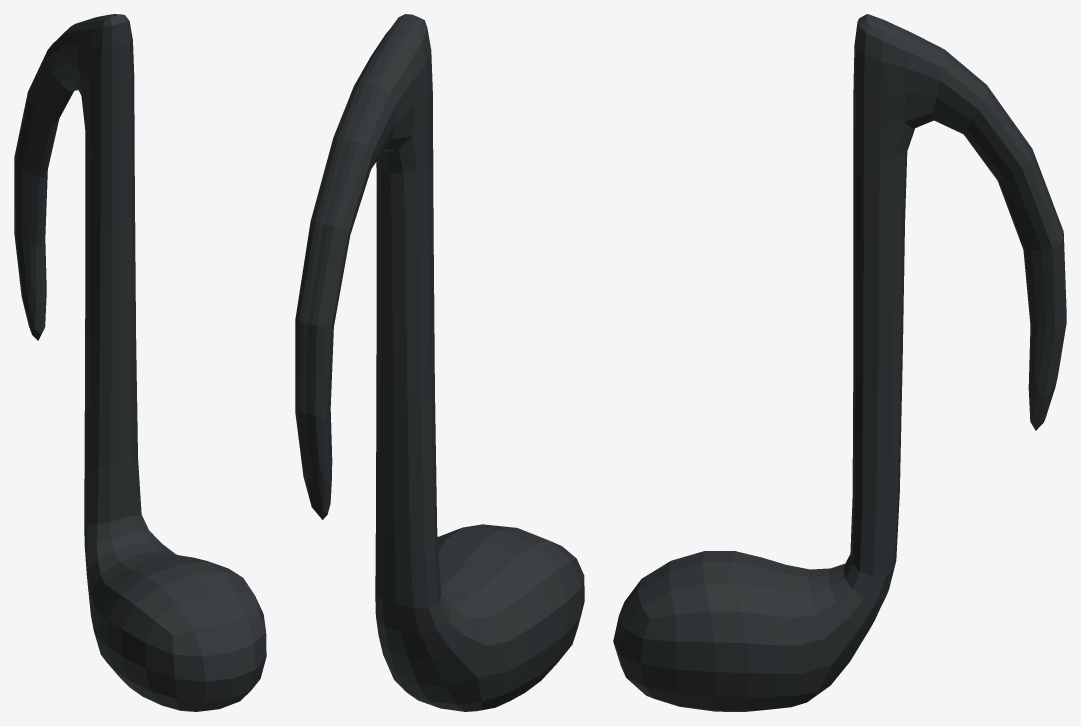
Rendered from LD51Note.fbx.
3 views of the same model, side by side, from view 1: azimuth 30°, elevation 25°; view 2: azimuth 150°, elevation 25°; view 3: azimuth 270°, elevation 25° (orthographic). The views are drawn at different scales.
Parts seen in each view (by area): view 1: Note; view 2: Note; view 3: Note.
Part boxes in pixels (x1,y1,x2,y2): Note: [14, 14, 266, 711]; Note: [295, 14, 584, 711]; Note: [613, 14, 1066, 711].
Size of the model in its own units: 184 by 515 by 859.
